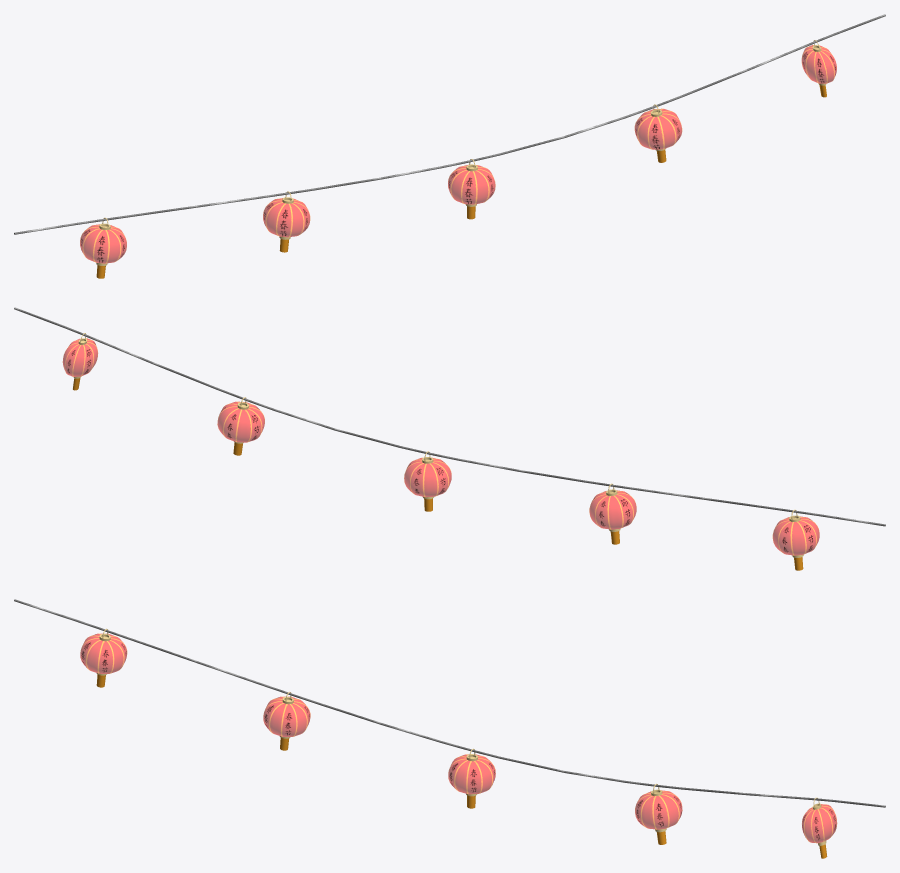
The model's file is SM_lamp_spline_Splines_18.fbx.
The picture shows the model from 3 angles, top to bottom: view 1: azimuth 30°, elevation 25°; view 2: azimuth 150°, elevation 25°; view 3: azimuth 330°, elevation 25°; orthographic projection.
Parts seen in each view (by area): view 1: SM_lamp_spline_Splines_18; view 2: SM_lamp_spline_Splines_18; view 3: SM_lamp_spline_Splines_18.
Boxes of the visible parts, x1=… form: SM_lamp_spline_Splines_18: x1=14, y1=14, x2=885, y2=278; SM_lamp_spline_Splines_18: x1=14, y1=307, x2=885, y2=570; SM_lamp_spline_Splines_18: x1=14, y1=599, x2=885, y2=858.
Bounding box in the file's own units: 1185 × 54.72 × 133.
